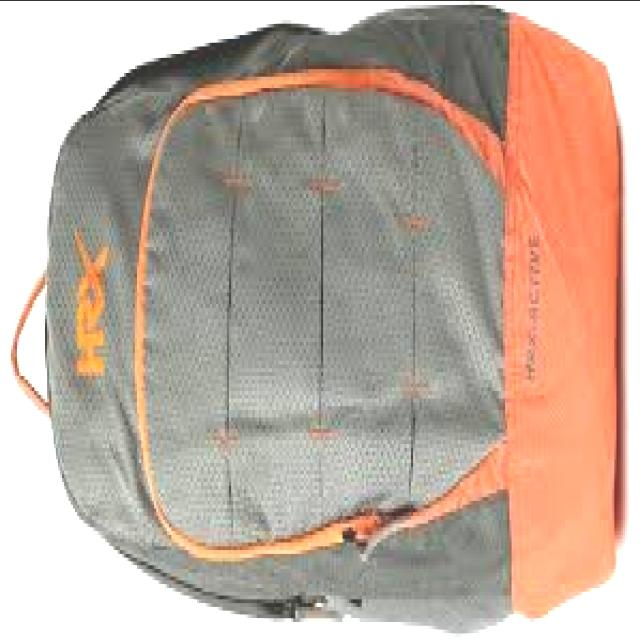backpack: (10, 5, 620, 637)
